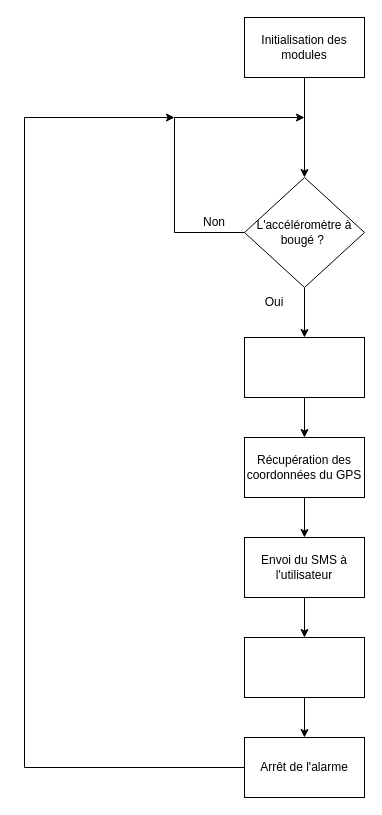
Image size: 382x815. Some labels were removed from this diagram. Each missing label, with the centre of its shape:
"Déclanchement de l'alarme" goes at point (304, 367).
"Envoi de la position GPS à l'API" goes at point (304, 667).
